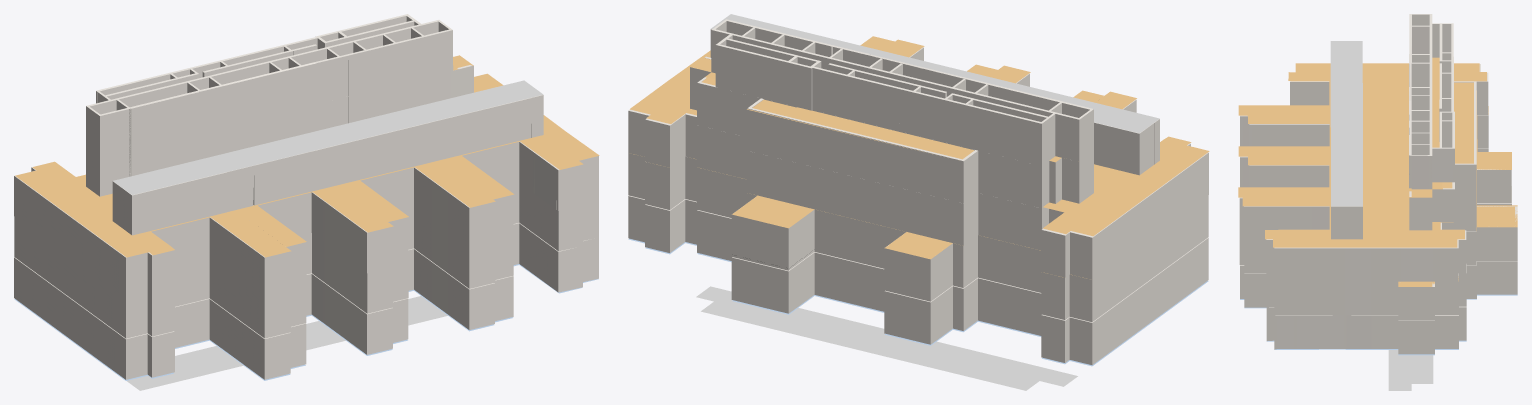
File: Våning4.glb
The picture shows the model from 3 angles, left to right: view 1: azimuth 30°, elevation 25°; view 2: azimuth 150°, elevation 25°; view 3: azimuth 270°, elevation 25°; orthographic projection. The views are drawn at different scales.
Visible parts, largest first — view 1: Plane.007, Plane.004, Plane, Plane.002, Plane.009, Plane.005, Plane.008, Plane.010, Plane.001; view 2: Plane.009, Plane.004, Plane.002, Plane, Plane.007, Plane.005, Plane.010, Plane.008, Plane.011, Plane.006, Plane.001; view 3: Plane.005, Plane.004, Plane.002, Plane, Plane.009, Plane.008, Plane.007, Plane.011, Plane.006, Plane.010, Plane.001.
Part boxes in pixels (left/top/right/bottom): Plane.007: left=86, top=65, right=543, bottom=235; Plane.004: left=14, top=73, right=598, bottom=298; Plane: left=14, top=222, right=598, bottom=379; Plane.002: left=14, top=182, right=598, bottom=338; Plane.009: left=86, top=14, right=453, bottom=156; Plane.005: left=15, top=73, right=599, bottom=257; Plane.008: left=113, top=80, right=543, bottom=194; Plane.010: left=127, top=296, right=447, bottom=390; Plane.001: left=14, top=264, right=598, bottom=380; Plane.009: left=711, top=19, right=1093, bottom=165; Plane.004: left=628, top=47, right=1208, bottom=279; Plane.002: left=628, top=153, right=1208, bottom=321; Plane: left=628, top=195, right=1208, bottom=364; Plane.007: left=690, top=29, right=1159, bottom=208; Plane.005: left=630, top=36, right=1209, bottom=236; Plane.010: left=696, top=286, right=1077, bottom=390; Plane.008: left=711, top=14, right=1159, bottom=133; Plane.011: left=690, top=56, right=1061, bottom=162; Plane.006: left=633, top=154, right=1086, bottom=278; Plane.001: left=628, top=238, right=1208, bottom=366; Plane.005: left=1238, top=63, right=1486, bottom=247; Plane.004: left=1239, top=64, right=1488, bottom=281; Plane.002: left=1239, top=115, right=1517, bottom=320; Plane: left=1240, top=148, right=1517, bottom=354; Plane.009: left=1409, top=14, right=1454, bottom=189; Plane.008: left=1330, top=41, right=1362, bottom=206; Plane.007: left=1331, top=57, right=1476, bottom=239; Plane.011: left=1409, top=57, right=1477, bottom=197; Plane.006: left=1398, top=106, right=1517, bottom=286; Plane.010: left=1388, top=350, right=1433, bottom=390; Plane.001: left=1240, top=294, right=1517, bottom=355.
Size of the model in its own units: 346 by 191 by 215.
